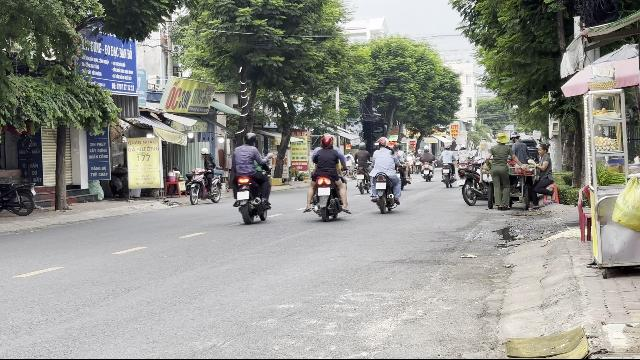helmet: (320, 134, 334, 148), (244, 132, 256, 144)
licenseplate: (237, 192, 249, 200), (318, 188, 330, 195)
motorcyclist: (228, 131, 272, 223), (304, 133, 350, 221)
